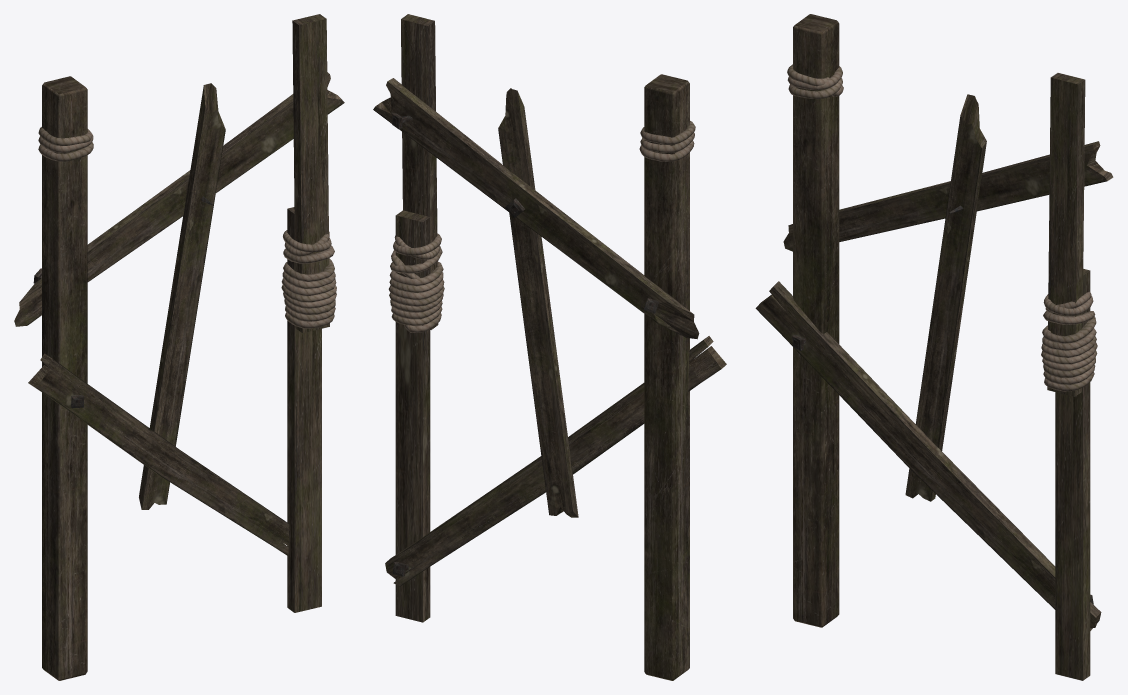
The model's file is dock_lower03.fbx.
3 renders of one model, left to right at view 1: azimuth 30°, elevation 25°; view 2: azimuth 150°, elevation 25°; view 3: azimuth 330°, elevation 25°, orthographic.
Parts seen in each view (by area): view 1: dock_lower03; view 2: dock_lower03; view 3: dock_lower03.
Boxes of the visible parts, x1,y1,x2,y2 form: dock_lower03: [14, 14, 344, 680]; dock_lower03: [373, 14, 726, 680]; dock_lower03: [755, 14, 1113, 680].
Size of the model in its own units: 406 by 696 by 91.89.
